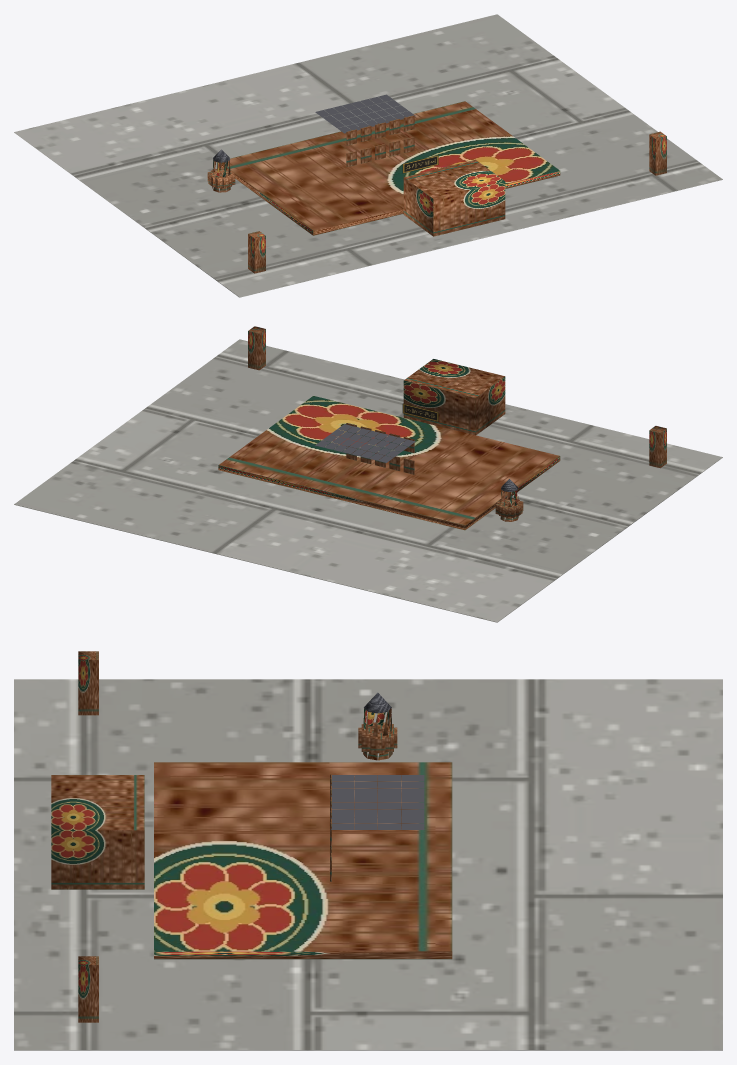
3 renders of one model, top to bottom at view 1: azimuth 30°, elevation 25°; view 2: azimuth 150°, elevation 25°; view 3: azimuth 270°, elevation 25°, orthographic. The views are drawn at different scales.
Visible parts, largest first — view 1: 11680_01_06253_045_01_L2__base, 11680_01_06253_045_02_L2__body, 11680_01_06253_045_03_L2__roof, 11680_01_06253_045_05_L2__openings, 11680_01_06253_045_06_L2__green; view 2: 11680_01_06253_045_01_L2__base, 11680_01_06253_045_02_L2__body, 11680_01_06253_045_03_L2__roof, 11680_01_06253_045_06_L2__green, 11680_01_06253_045_05_L2__openings; view 3: 11680_01_06253_045_01_L2__base, 11680_01_06253_045_02_L2__body, 11680_01_06253_045_03_L2__roof, 11680_01_06253_045_06_L2__green.
Part boxes in pixels (bbox=[...]): 11680_01_06253_045_01_L2__base: bbox=[14, 14, 722, 297]; 11680_01_06253_045_02_L2__body: bbox=[207, 101, 560, 236]; 11680_01_06253_045_03_L2__roof: bbox=[213, 94, 415, 162]; 11680_01_06253_045_05_L2__openings: bbox=[346, 115, 414, 166]; 11680_01_06253_045_06_L2__green: bbox=[248, 131, 666, 273]; 11680_01_06253_045_01_L2__base: bbox=[14, 339, 722, 622]; 11680_01_06253_045_02_L2__body: bbox=[218, 359, 560, 530]; 11680_01_06253_045_03_L2__roof: bbox=[315, 424, 517, 491]; 11680_01_06253_045_06_L2__green: bbox=[248, 326, 666, 468]; 11680_01_06253_045_05_L2__openings: bbox=[346, 423, 414, 474]; 11680_01_06253_045_01_L2__base: bbox=[14, 679, 722, 1050]; 11680_01_06253_045_02_L2__body: bbox=[51, 708, 452, 959]; 11680_01_06253_045_03_L2__roof: bbox=[331, 692, 424, 829]; 11680_01_06253_045_06_L2__green: bbox=[78, 651, 98, 1022].
Bounding box in the file's own units: 94 × 7.64 × 76.
5 materials, 5 textured.
